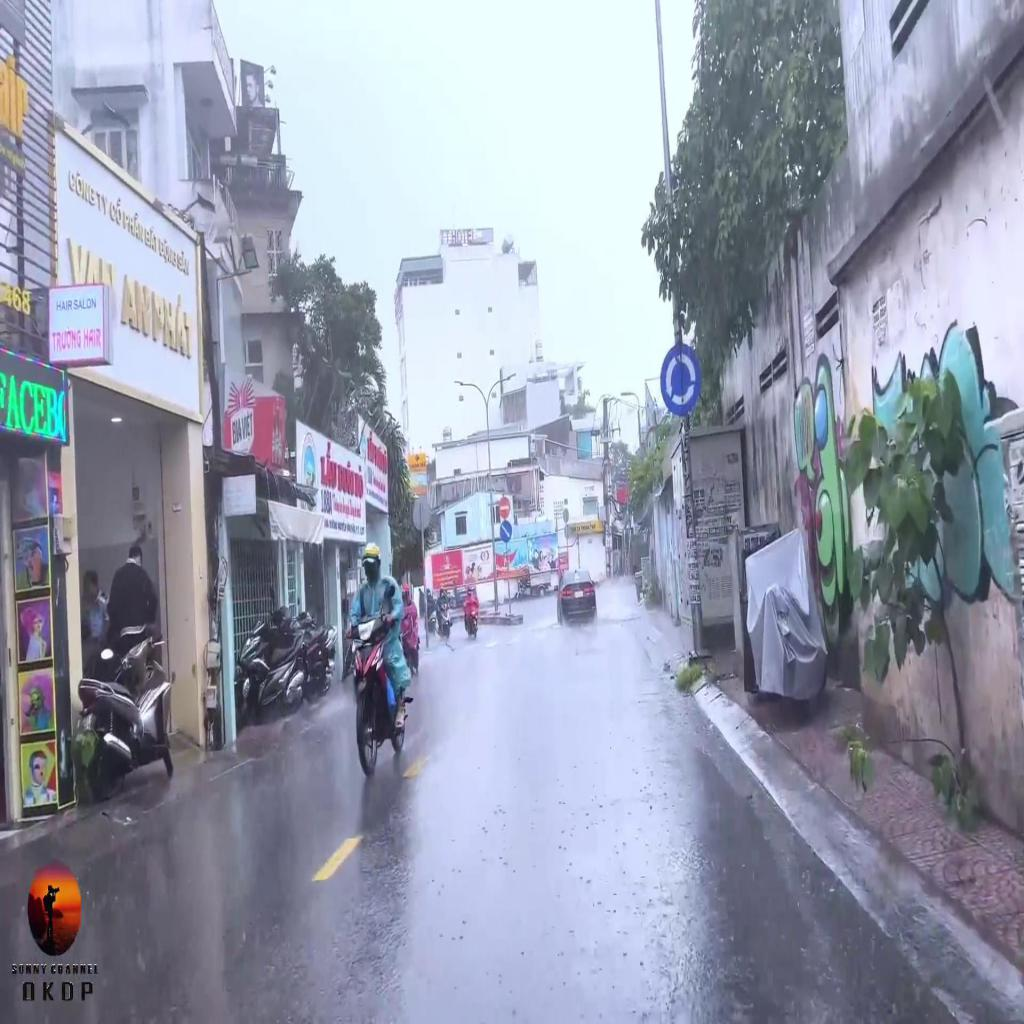cam_xe_di_nguoc_chieu: (498, 496, 511, 518)
huong_phai_di_vuot_chuong_ngai_vat_phai: (500, 520, 512, 542)
noi_giao_nhau_chay_theo_vong: (660, 343, 703, 416)
